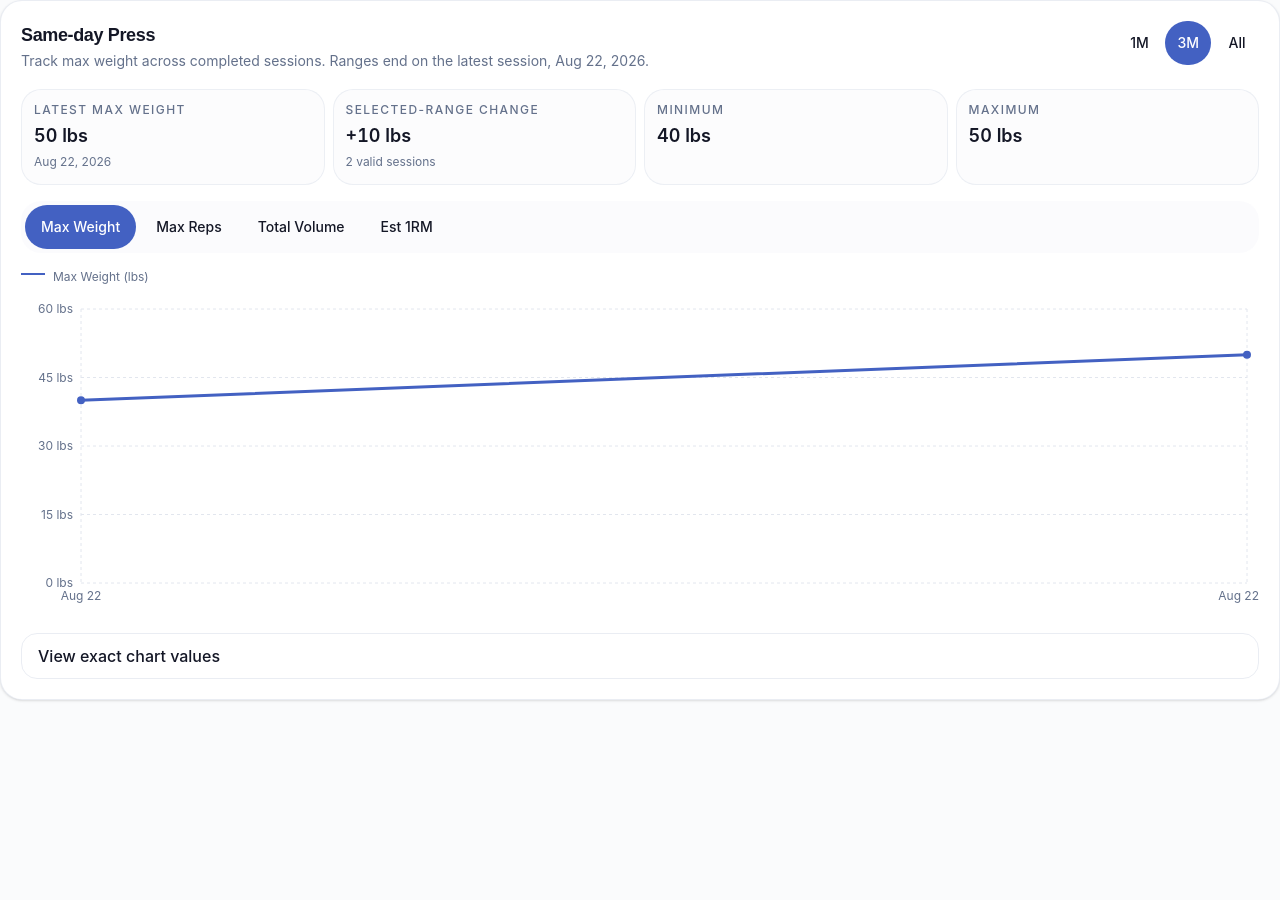
Test: ExerciseTrendChart › preserves deterministic identity for multiple sessions on the same date
Click the heading "View exact chart values": (129, 656) [38,646,220,666]
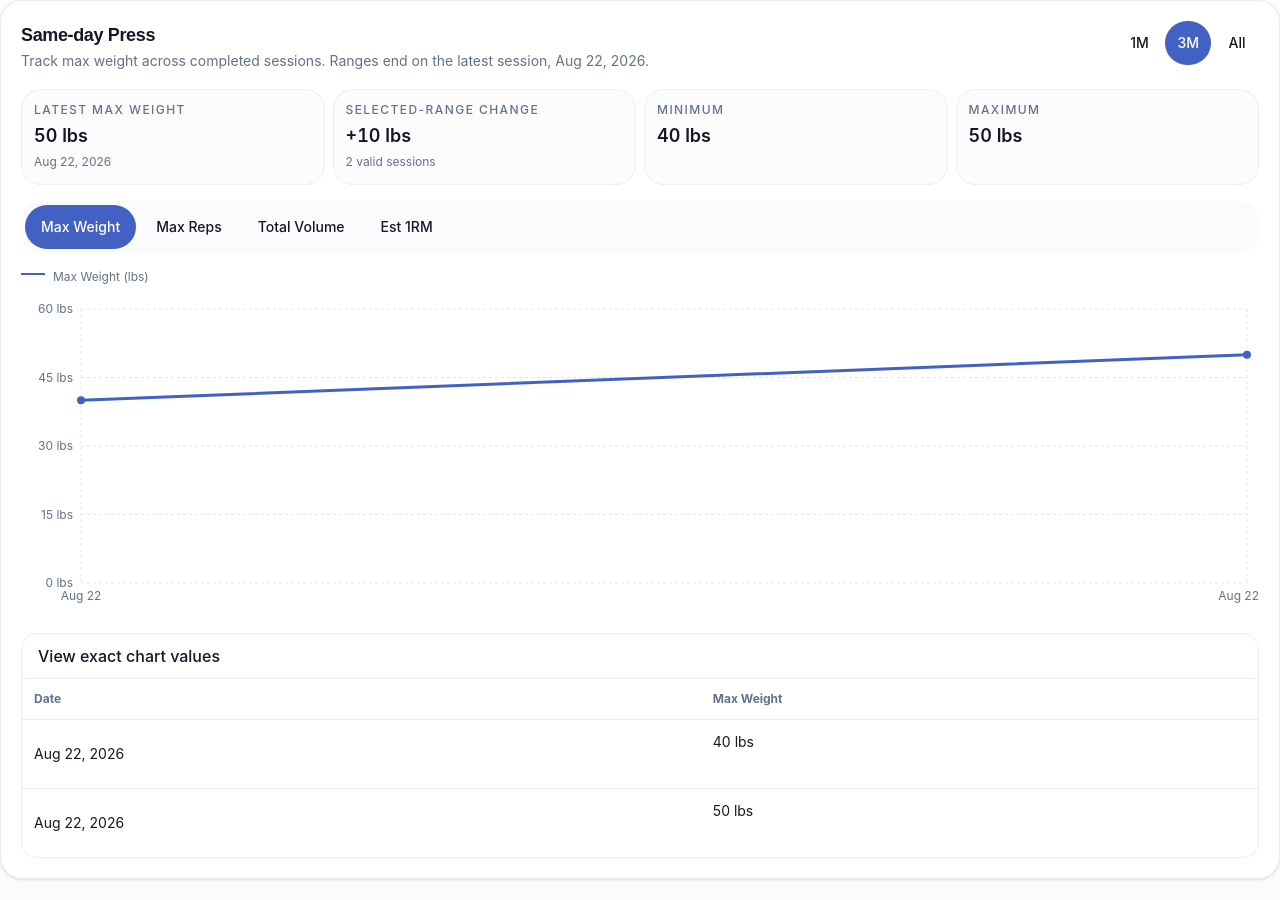
Click the button named "Inspect Aug 22, 2026 · session 2 of 2": (79, 823) [34,801,124,845]
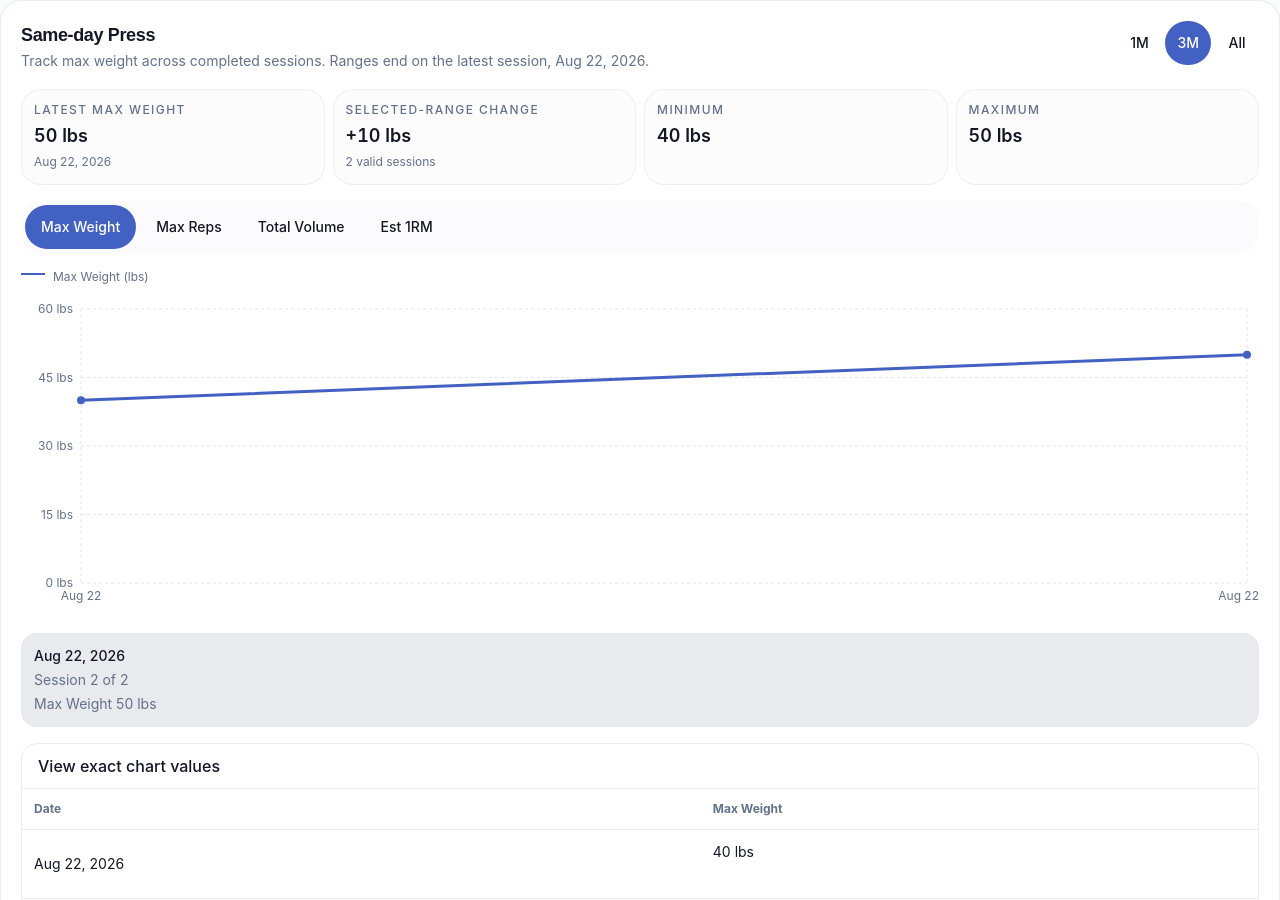
Result: the element named "Selected chart point" reads "Aug 22, 2026 Session 2 of 2 Max Weight 50 lbs" at [21,633,1259,727]
